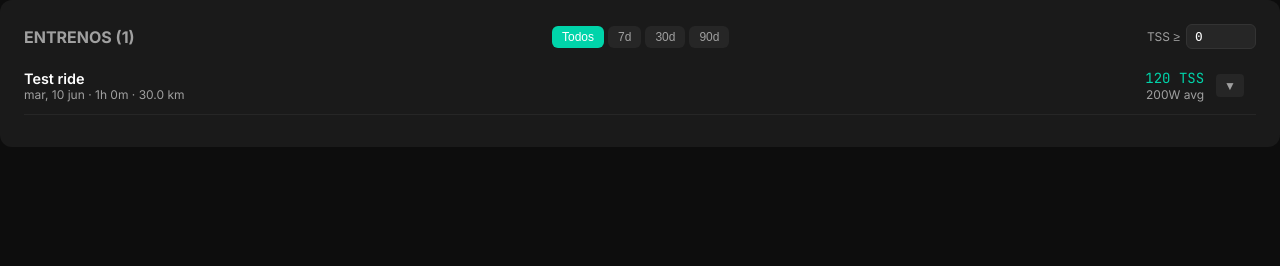
Test: WorkoutList › expands workout row on click and shows detail metrics
Click the text "Test ride" at (54, 78), box [24, 70, 85, 86]
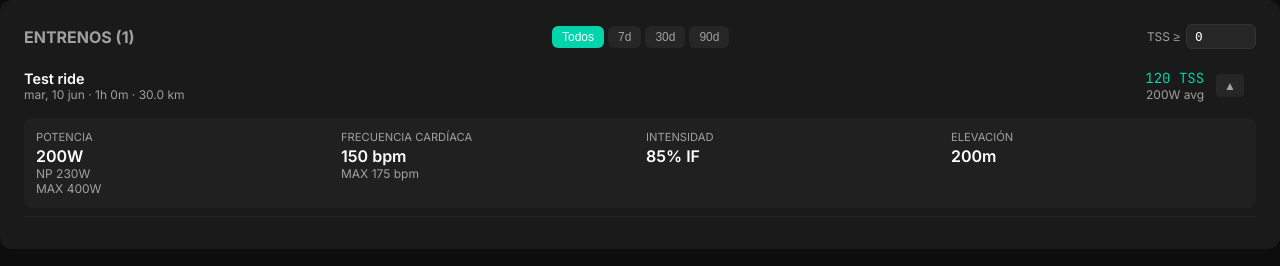
Now the text "POTENCIA" is shown, box [36, 130, 93, 144]
Now the text "NP 230W" is shown, box [36, 166, 90, 181]
Now the text "MAX 400W" is shown, box [36, 181, 101, 196]
